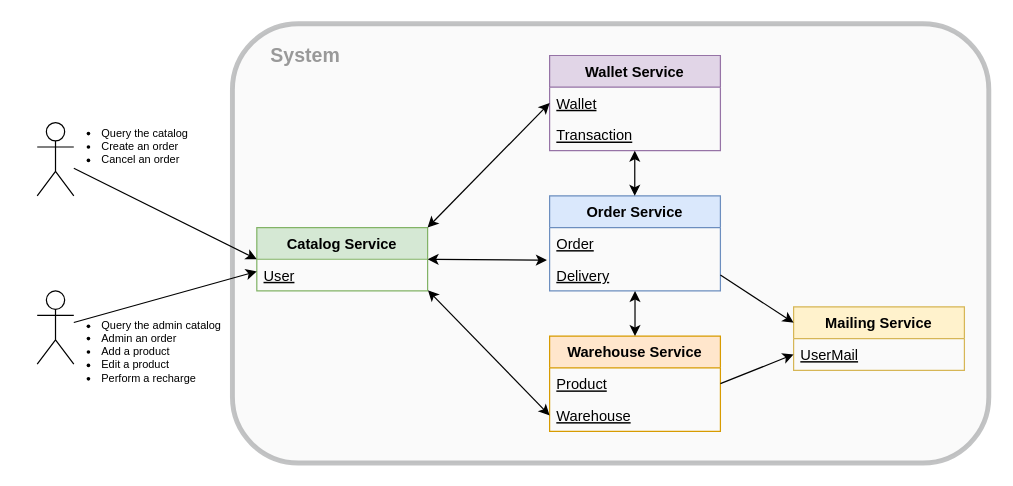
Some shapes in this 1013 by 486 pixel diagram are drawn without their labels. Each missing label, with the centre of its shape:
Admin: point 55,327
Customer: point 55,158
